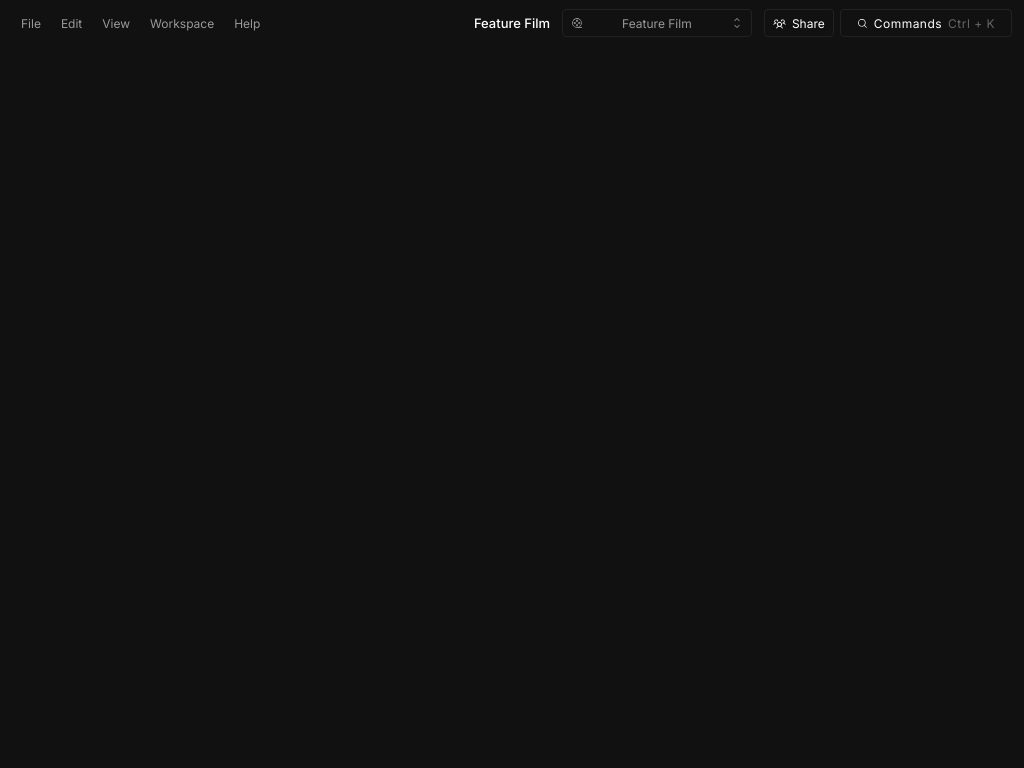
Test case: context-aware application masthead › projects breakdown commands into both the menus and palette
The width and height of the screenshot is (1024, 768).
Click the menu item "Workspace": (182, 23) [141, 9, 223, 37]
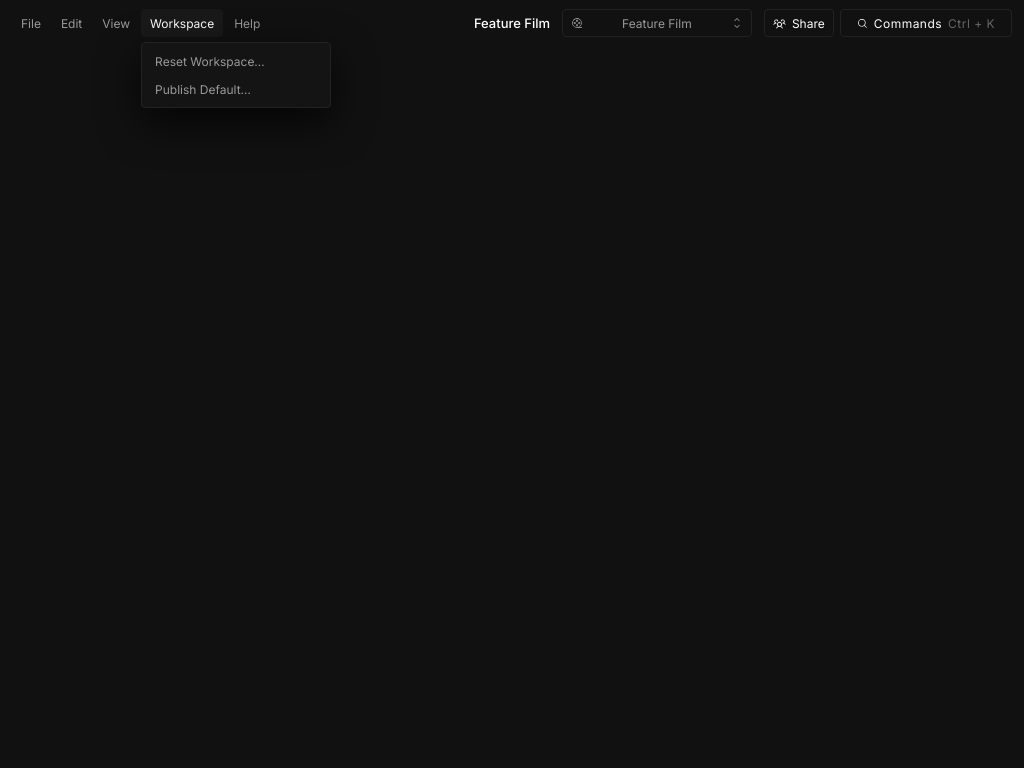
Click the menu item "Reset Workspace…": (236, 61) [146, 47, 326, 75]
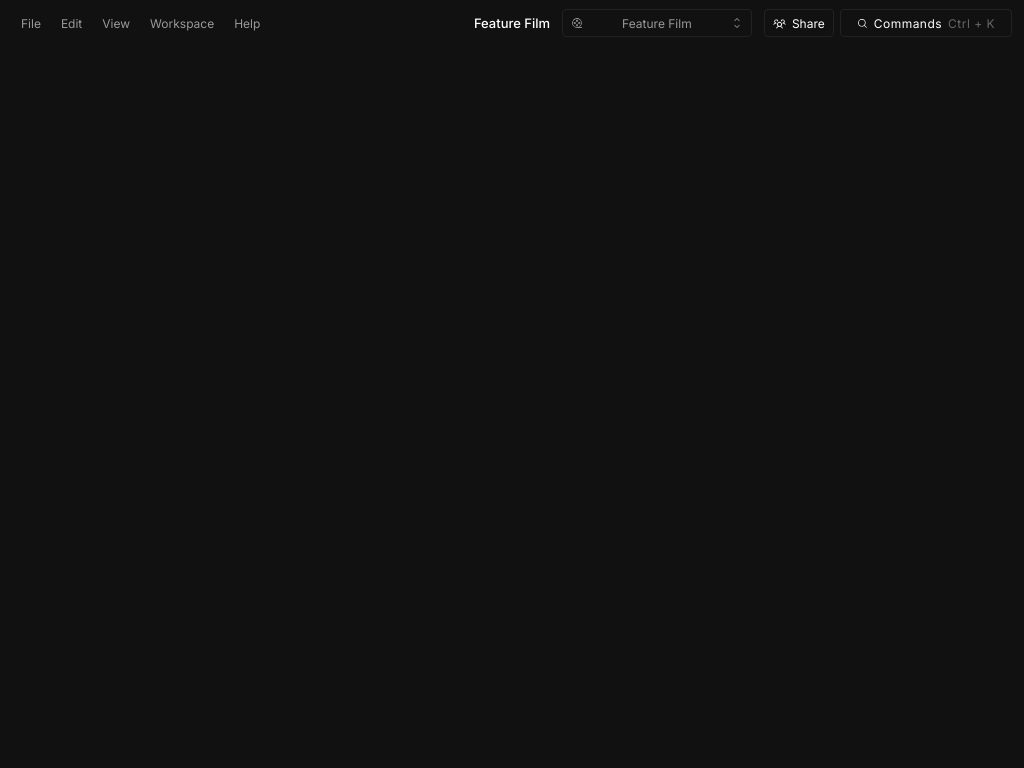
Click the button with aria-label "Open the command palette": (926, 23) [840, 9, 1012, 37]
(page scrolled)
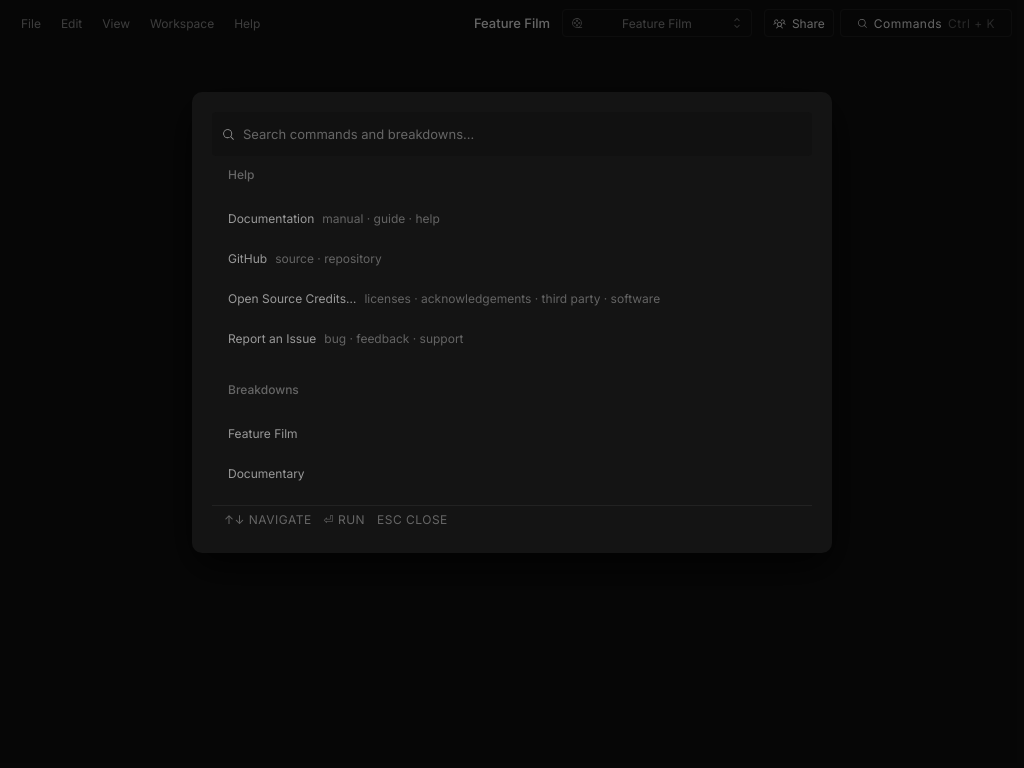
expect the option "Documentary" is shown: met, box [228, 466, 305, 481]
